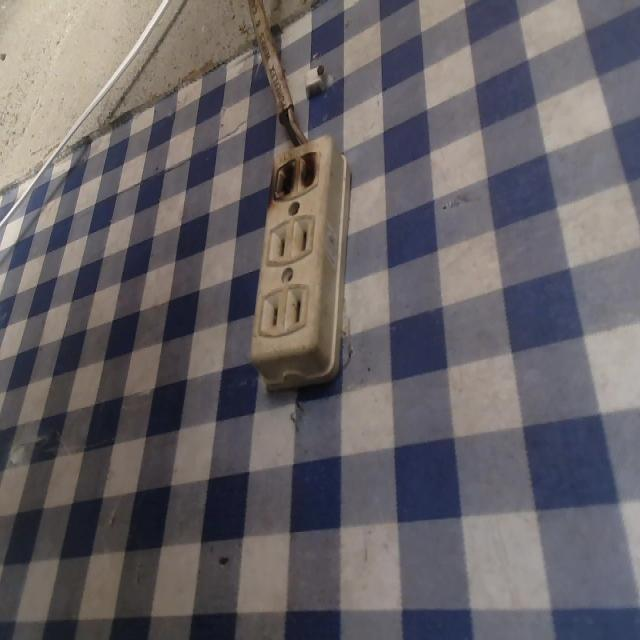-: (269, 148, 323, 196)
